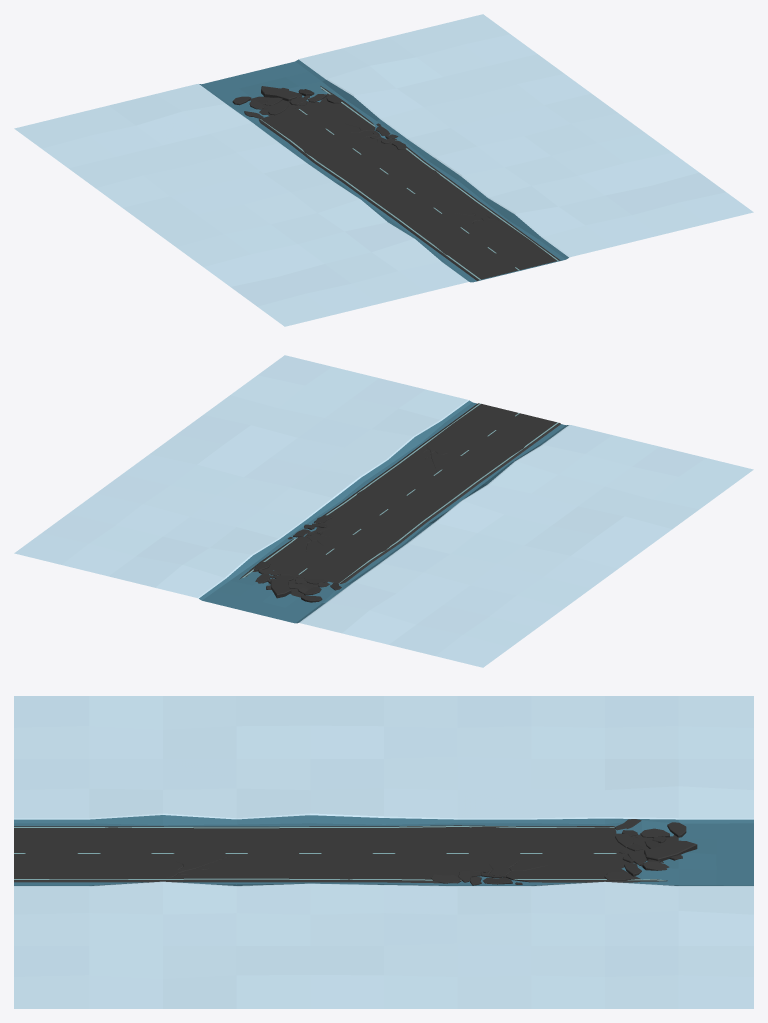
Rendered from model_road_snow_straight_03.fbx.
3 views of the same model, one above another, from view 1: azimuth 30°, elevation 25°; view 2: azimuth 150°, elevation 25°; view 3: azimuth 270°, elevation 25° (orthographic). The views are drawn at different scales.
Parts seen in each view (by area): view 1: model_road_snow_straight_03; view 2: model_road_snow_straight_03; view 3: model_road_snow_straight_03.
Boxes of the visible parts, x1=… form: model_road_snow_straight_03: x1=14, y1=14, x2=753, y2=326; model_road_snow_straight_03: x1=14, y1=355, x2=753, y2=667; model_road_snow_straight_03: x1=14, y1=696, x2=753, y2=1008.
Size of the model in its own units: 6161 by 72.76 by 6161.
Materials: 1 (1 with a texture image).
